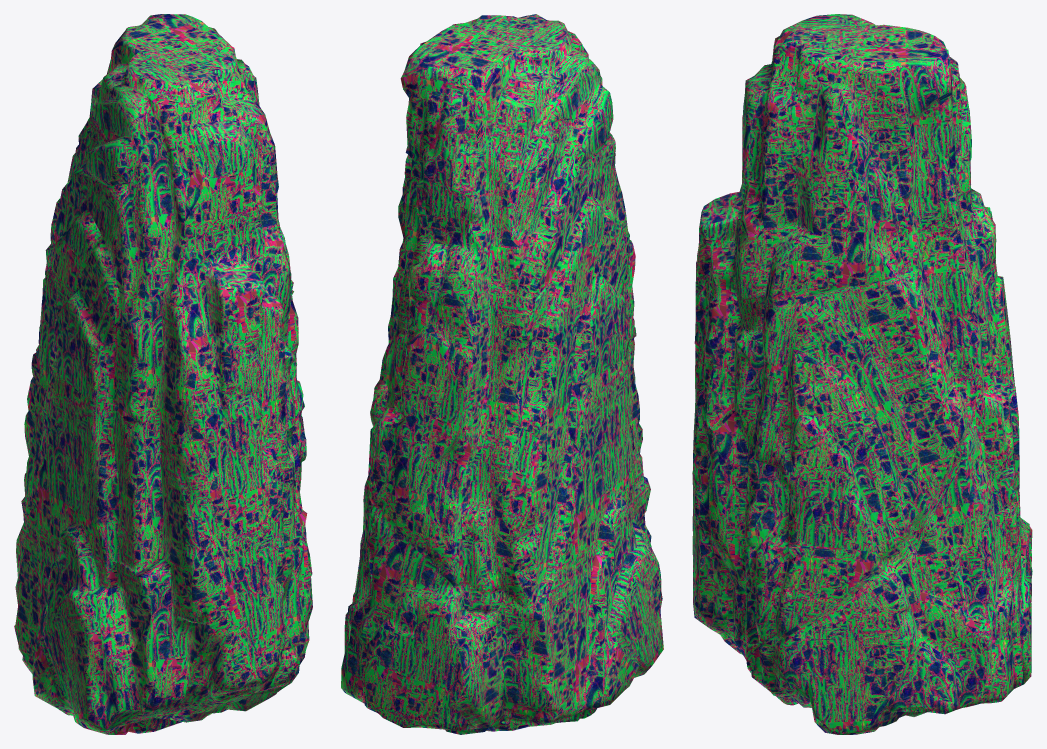
File: SM_Rock4.fbx
3 views of the same model, side by side, from view 1: azimuth 30°, elevation 25°; view 2: azimuth 150°, elevation 25°; view 3: azimuth 270°, elevation 25° (orthographic).
Visible parts, largest first — view 1: SM_Rock4_LOD0; view 2: SM_Rock4_LOD0; view 3: SM_Rock4_LOD0.
Part boxes in pixels (bbox=[...]): SM_Rock4_LOD0: bbox=[14, 14, 312, 734]; SM_Rock4_LOD0: bbox=[341, 14, 663, 734]; SM_Rock4_LOD0: bbox=[692, 14, 1032, 734].
Bounding box in the file's own units: 322 × 418 × 891.
Materials: 1 (1 with a texture image).
